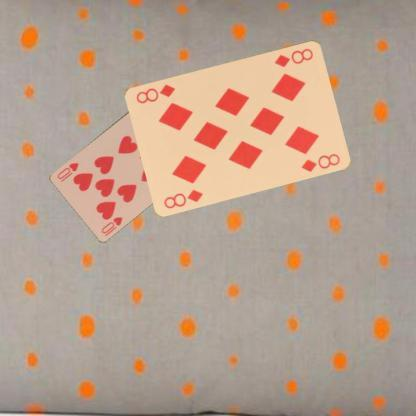10h: (98, 214, 124, 234)
8d: (161, 186, 204, 209), (272, 46, 314, 68)
